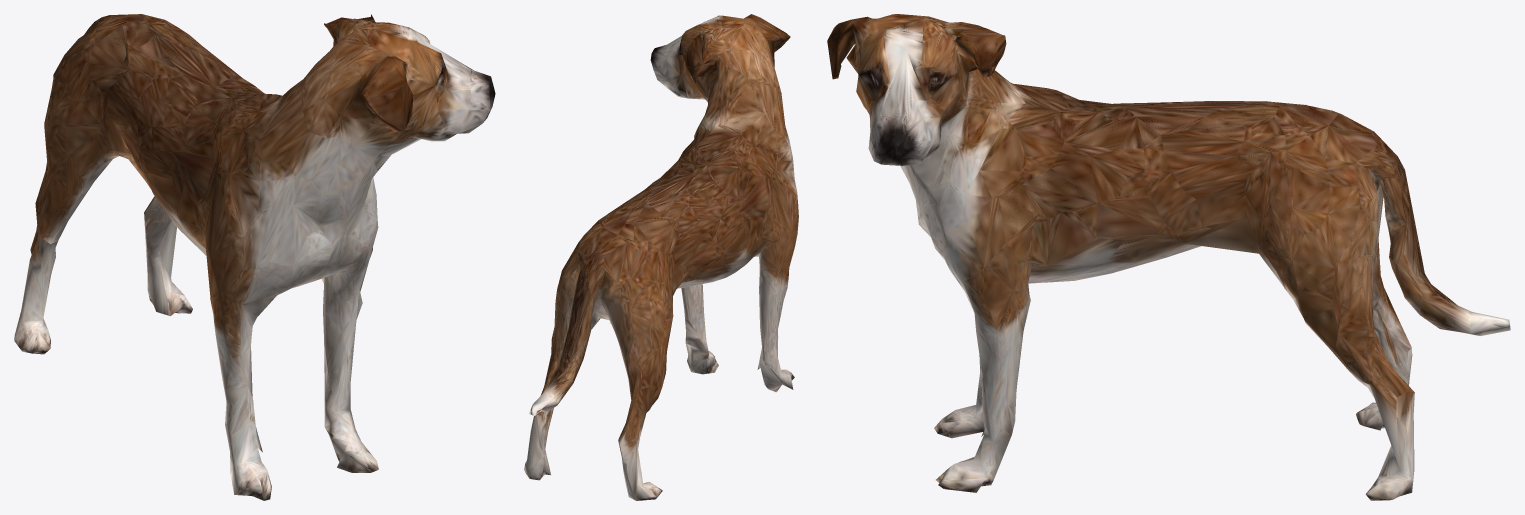
The model's file is hund_braunweiss.glb.
3 renders of one model, left to right at view 1: azimuth 30°, elevation 25°; view 2: azimuth 150°, elevation 25°; view 3: azimuth 270°, elevation 25°, orthographic. The views are drawn at different scales.
Size of the model in its own units: 0.7832 by 1.42 by 1.89.
1 material, 1 textured.
